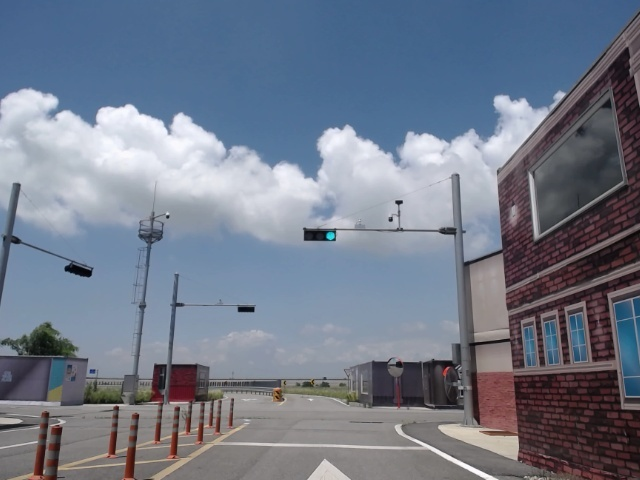green_3: (304, 231, 335, 240)
